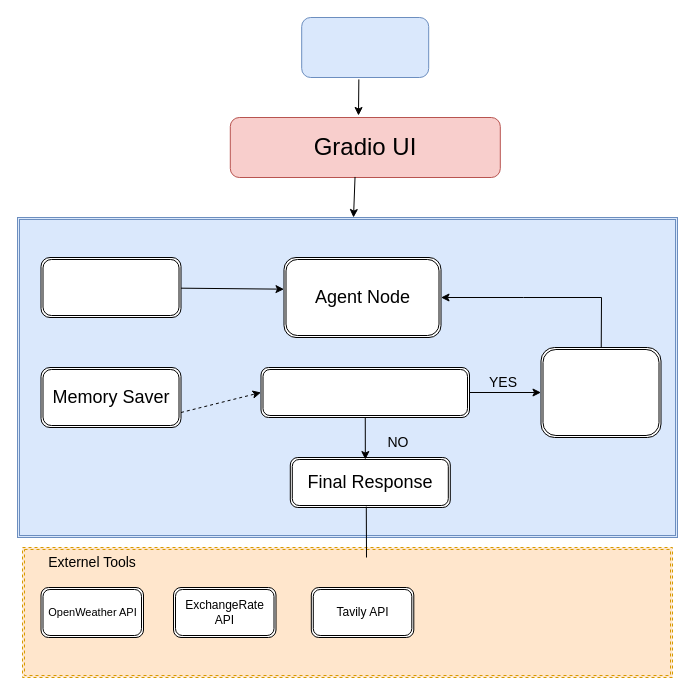
Image size: 695x695. Some labels were removed from this diagram. The shapes that lost their labels are listed below. From the top down, each one's box as (x1, y1, x2, y2) in pixels, then its label:
(301, 16, 429, 78): User
(40, 256, 181, 318): Travel State
(260, 366, 470, 418): Conditional Edge
(540, 346, 661, 438): Tool Node
